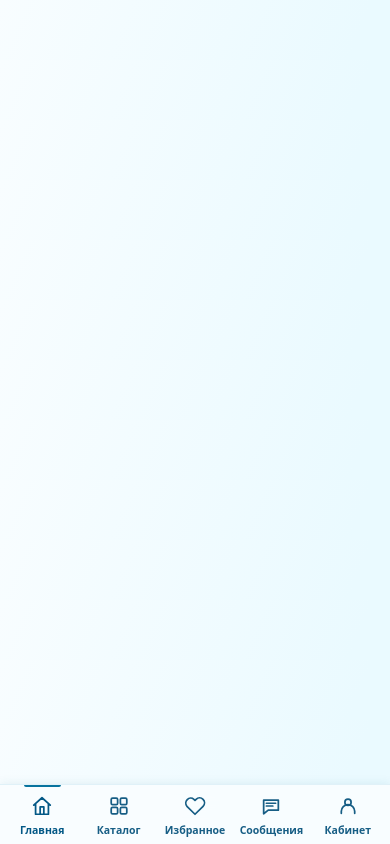
Scenario: MobileTabBar (NAV-03) › «Каталог» opens a sheet with every section
Click the button "Каталог": (119, 815) [80,785,157,843]
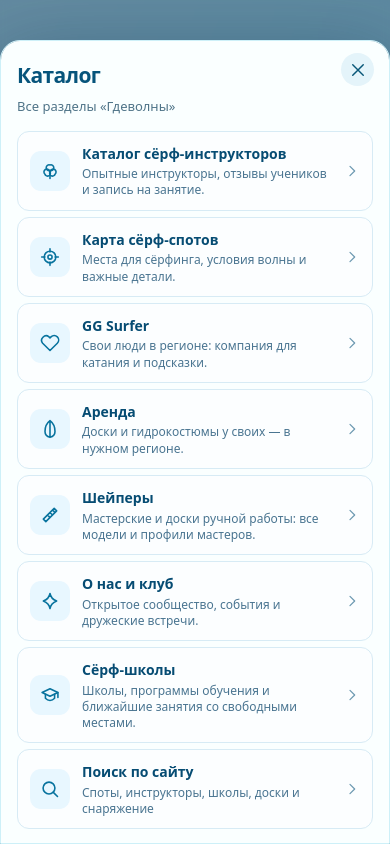
Check: the link "Каталог сёрф-инструкторов" is shown, box [17,131,373,211]
Check: the link "Карта сёрф-спотов" is shown, box [17,217,373,297]
Check: the link "GG Surfer" is shown, box [17,303,373,383]
